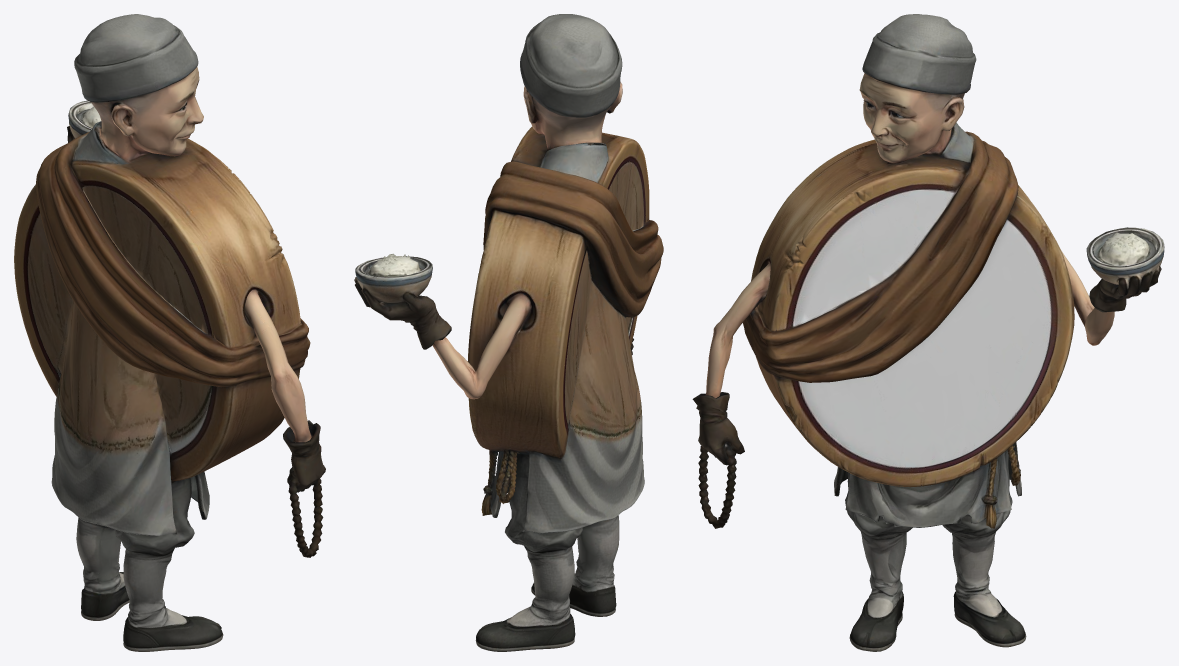
Rendered from p_b1p_jingyin.glb.
3 views of the same model, side by side, from view 1: azimuth 30°, elevation 25°; view 2: azimuth 150°, elevation 25°; view 3: azimuth 270°, elevation 25° (orthographic). The views are drawn at different scales.
Parts seen in each view (by area): view 1: tripo_node_dee03084-08f4-4f0b-8f34-5471f82cd75c; view 2: tripo_node_dee03084-08f4-4f0b-8f34-5471f82cd75c; view 3: tripo_node_dee03084-08f4-4f0b-8f34-5471f82cd75c.
Part boxes in pixels (x1,y1,x2,y2): tripo_node_dee03084-08f4-4f0b-8f34-5471f82cd75c: (14,14,325,651); tripo_node_dee03084-08f4-4f0b-8f34-5471f82cd75c: (354,14,663,651); tripo_node_dee03084-08f4-4f0b-8f34-5471f82cd75c: (692,14,1164,651).
Bounding box in the file's own units: 0.2987 × 0.978 × 0.6935.
Materials: 1 (1 with a texture image).
